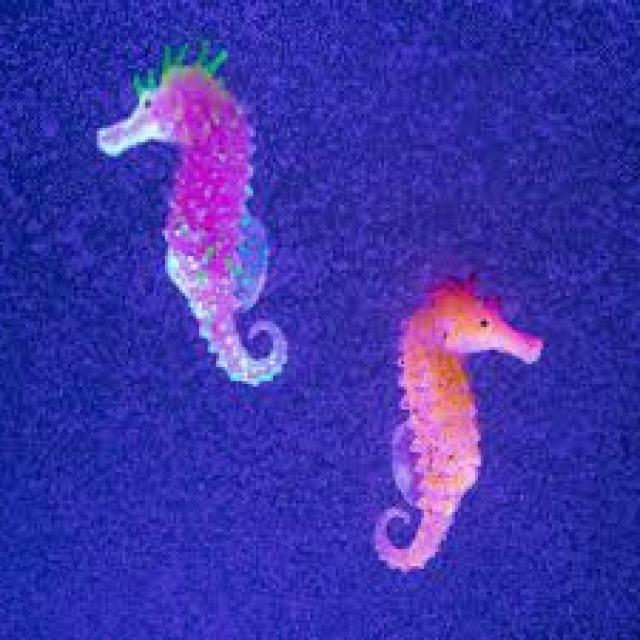seahorse: (100, 46, 287, 384), (378, 276, 543, 569)
